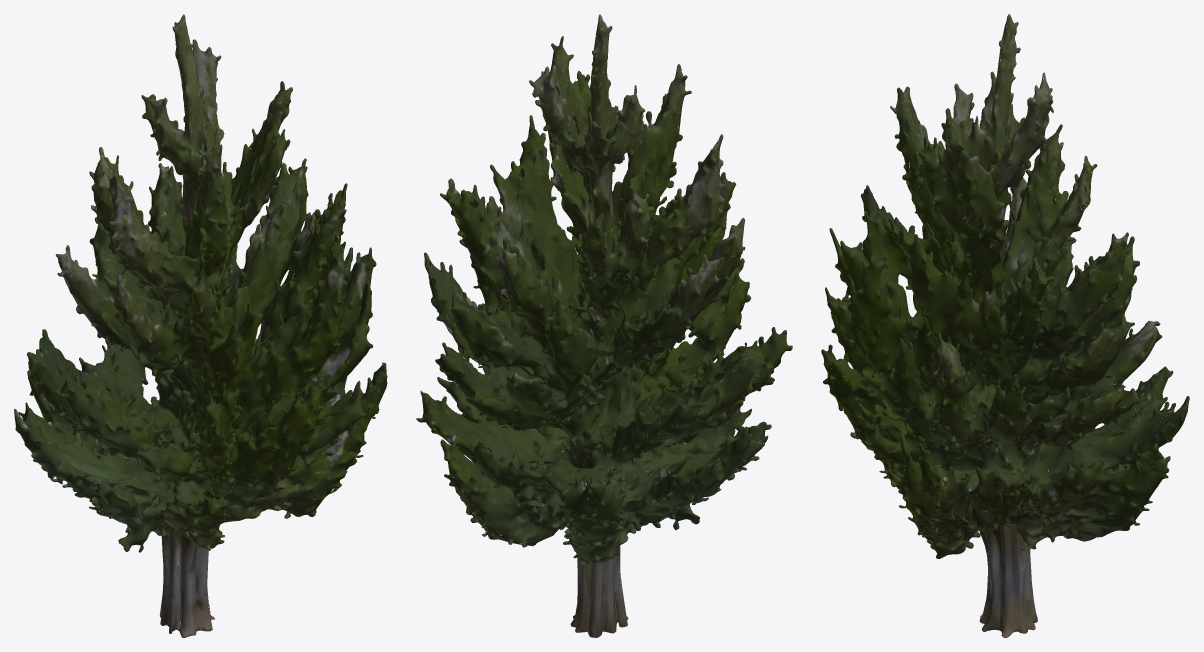
The model's file is arbol.glb.
The picture shows the model from 3 angles, left to right: view 1: azimuth 30°, elevation 25°; view 2: azimuth 150°, elevation 25°; view 3: azimuth 270°, elevation 25°; orthographic projection.
Visible parts, largest first — view 1: tripo_node_2e29f42f-bf4a-40f3-8d21-cacd1560bf68; view 2: tripo_node_2e29f42f-bf4a-40f3-8d21-cacd1560bf68; view 3: tripo_node_2e29f42f-bf4a-40f3-8d21-cacd1560bf68.
Boxes of the visible parts, <box> form: tripo_node_2e29f42f-bf4a-40f3-8d21-cacd1560bf68: <box>14,14,387,637</box>; tripo_node_2e29f42f-bf4a-40f3-8d21-cacd1560bf68: <box>416,14,792,637</box>; tripo_node_2e29f42f-bf4a-40f3-8d21-cacd1560bf68: <box>821,14,1189,637</box>.
Size of the model in its own units: 0.5675 by 1 by 0.5468.
Materials: 1 (1 with a texture image).
